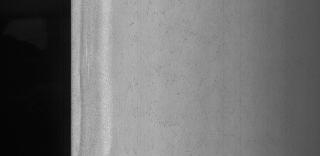silk spot: (124, 0, 218, 126)
